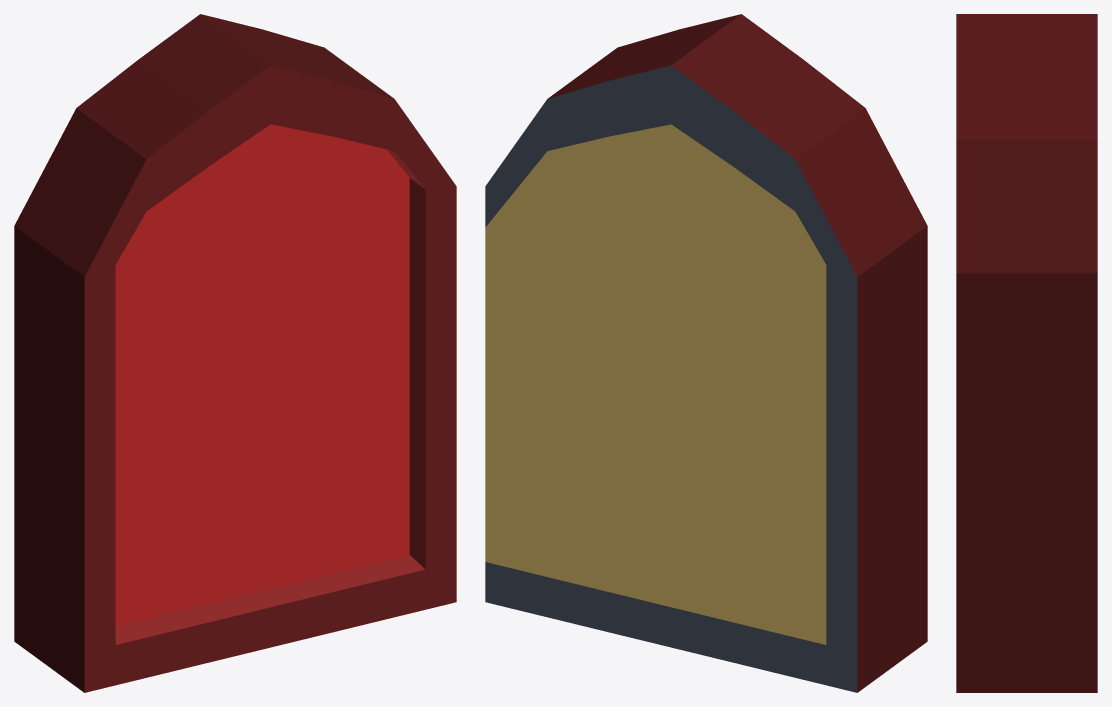
Rendered from Porta Caminho do Fogo.fbx.
3 views of the same model, side by side, from view 1: azimuth 30°, elevation 25°; view 2: azimuth 150°, elevation 25°; view 3: azimuth 270°, elevation 25° (orthographic).
Visible parts, largest first — view 1: Portal.002; view 2: Portal.002; view 3: Portal.002.
Boxes of the visible parts, <box> form: Portal.002: <box>14,14,456,692</box>; Portal.002: <box>485,14,927,692</box>; Portal.002: <box>956,14,1097,692</box>.
Size of the model in its own units: 540 by 807 by 176.
Materials: 1 (1 with a texture image).
